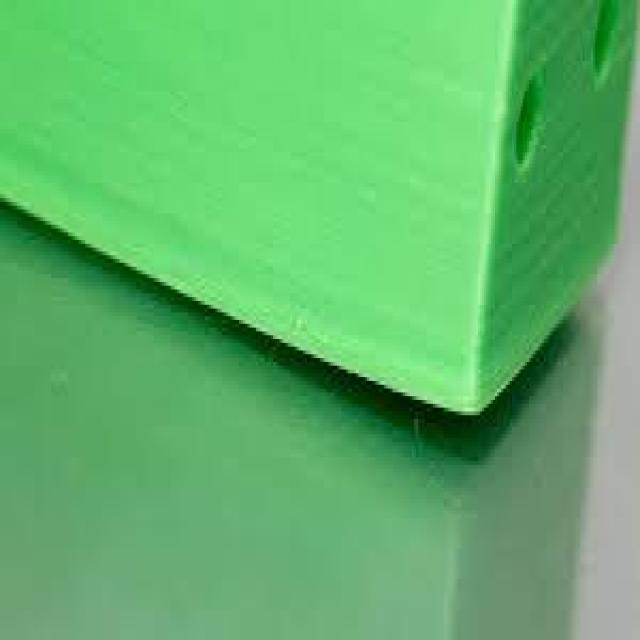Warping: (272, 302, 587, 459)
